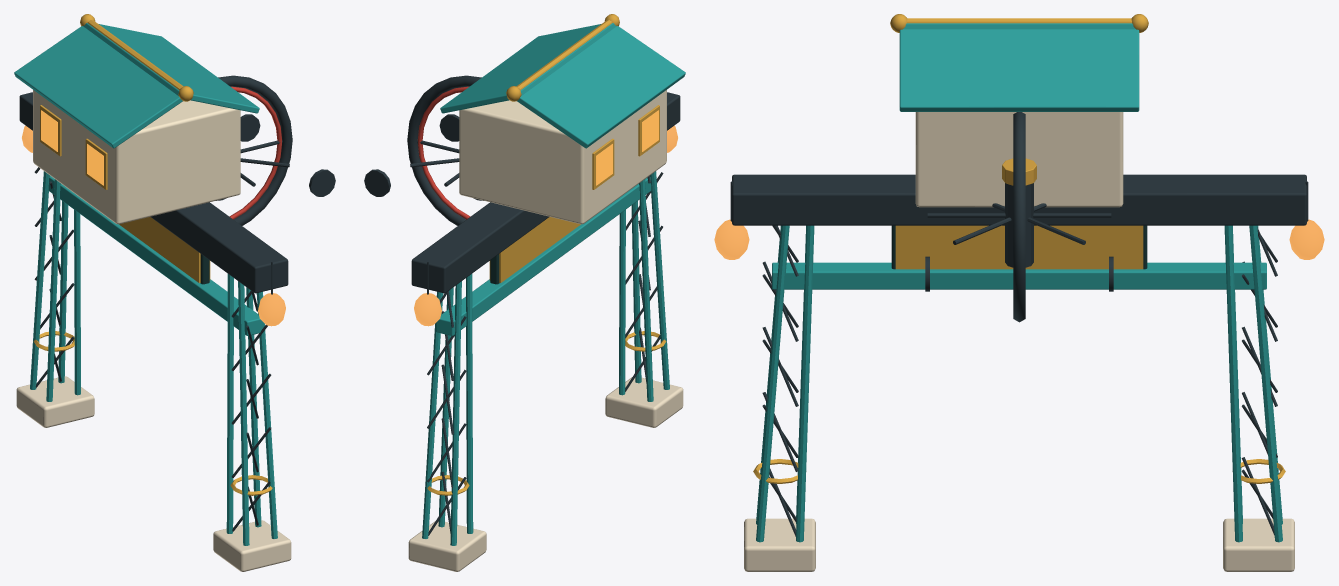
The model's file is rt_cable_tower.glb.
The picture shows the model from 3 angles, left to right: view 1: azimuth 30°, elevation 25°; view 2: azimuth 150°, elevation 25°; view 3: azimuth 270°, elevation 25°; orthographic projection. The views are drawn at different scales.
Parts seen in each view (by area): view 1: rt_cable_tower_body; view 2: rt_cable_tower_body; view 3: rt_cable_tower_body.
Boxes of the visible parts, <box> form: rt_cable_tower_body: <box>14,14,335,571</box>; rt_cable_tower_body: <box>364,14,685,571</box>; rt_cable_tower_body: <box>714,14,1324,571</box>.
Size of the model in its own units: 4.12 by 7.37 by 7.64.
